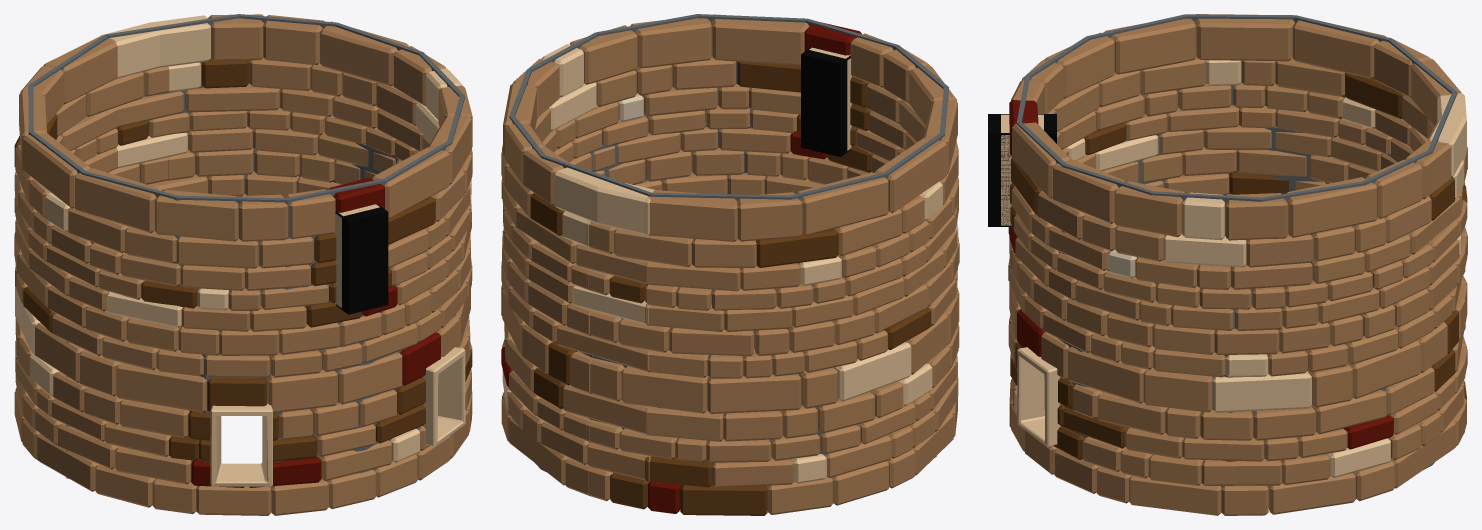
Rendered from mid-section-with-three-slits-rb.glb.
The picture shows the model from 3 angles, left to right: view 1: azimuth 30°, elevation 25°; view 2: azimuth 150°, elevation 25°; view 3: azimuth 270°, elevation 25°; orthographic projection.
Visible parts, largest first — view 1: main-wall.086, grout-wall.001, mid-section-with-three-slits, right-slit-frame, left-slit-frame, upper-slit-frame; view 2: main-wall.086, grout-wall.001, mid-section-with-three-slits, upper-slit-frame; view 3: main-wall.086, grout-wall.001, right-slit-frame, mid-section-with-three-slits, upper-slit-frame.
Part boxes in pixels (<box>): main-wall.086: <box>14,14,472,515</box>; grout-wall.001: <box>28,14,464,486</box>; mid-section-with-three-slits: <box>335,204,388,314</box>; right-slit-frame: <box>422,347,465,446</box>; left-slit-frame: <box>210,403,272,486</box>; upper-slit-frame: <box>335,204,379,308</box>; main-wall.086: <box>501,14,959,515</box>; grout-wall.001: <box>509,14,948,506</box>; mid-section-with-three-slits: <box>801,47,850,157</box>; upper-slit-frame: <box>809,47,851,150</box>; main-wall.086: <box>1008,14,1467,515</box>; grout-wall.001: <box>1016,14,1457,512</box>; right-slit-frame: <box>1017,347,1060,447</box>; mid-section-with-three-slits: <box>988,114,1056,226</box>; upper-slit-frame: <box>1001,114,1043,225</box>.
Size of the model in its own units: 2.9 by 2.19 by 3.03.
